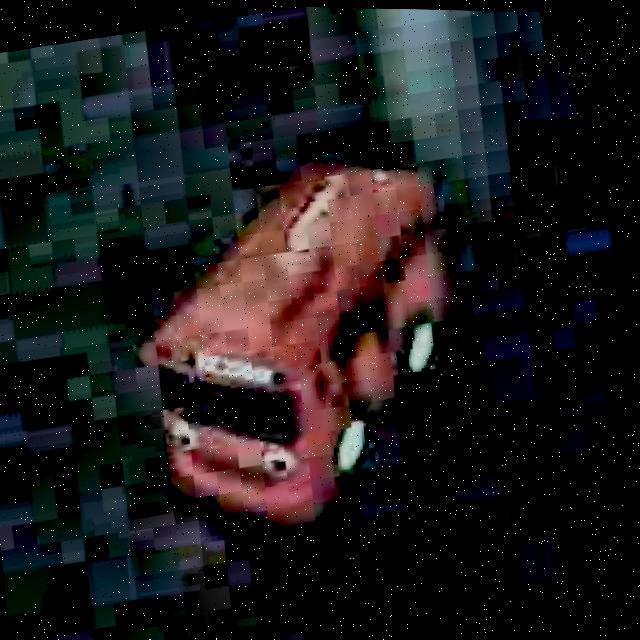bus: (81, 113, 510, 568)
